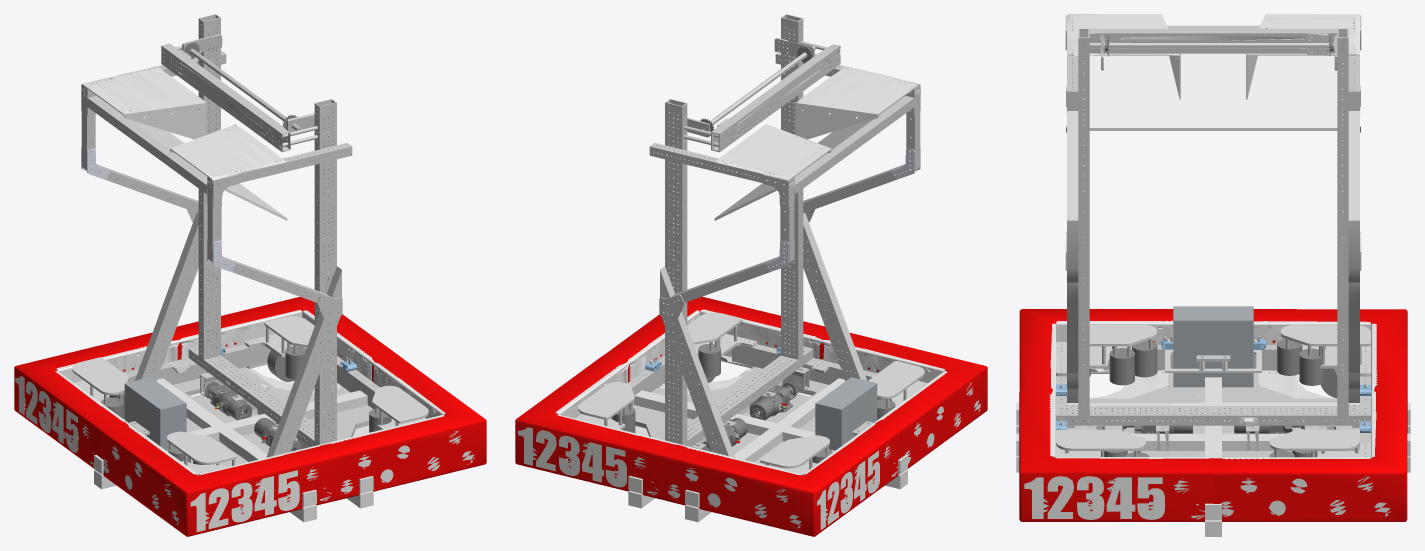
3 views of the same model, side by side, from view 1: azimuth 30°, elevation 25°; view 2: azimuth 150°, elevation 25°; view 3: azimuth 270°, elevation 25° (orthographic). The views are drawn at different scales.
Visible parts, largest first — view 1: geometry_2, geometry_5, geometry_4, geometry_11, geometry_9, geometry_6, geometry_10, geometry_13, geometry_22, geometry_3, geometry_18; view 2: geometry_2, geometry_5, geometry_4, geometry_11, geometry_9, geometry_6, geometry_10, geometry_13, geometry_22, geometry_3, geometry_18; view 3: geometry_2, geometry_5, geometry_4, geometry_11, geometry_10, geometry_13, geometry_6, geometry_9, geometry_22, geometry_8, geometry_12, geometry_20.
Part boxes in pixels (bbox=[...]): geometry_2: bbox=[81, 14, 379, 467]; geometry_5: bbox=[14, 297, 486, 536]; geometry_4: bbox=[24, 66, 474, 525]; geometry_11: bbox=[72, 316, 428, 474]; geometry_9: bbox=[55, 310, 445, 475]; geometry_6: bbox=[15, 376, 299, 531]; geometry_10: bbox=[124, 377, 186, 450]; geometry_13: bbox=[101, 346, 391, 464]; geometry_22: bbox=[207, 384, 296, 449]; geometry_3: bbox=[81, 147, 235, 271]; geometry_18: bbox=[182, 34, 314, 132]; geometry_2: bbox=[627, 14, 920, 467]; geometry_5: bbox=[515, 296, 987, 536]; geometry_4: bbox=[533, 66, 981, 528]; geometry_11: bbox=[575, 312, 927, 474]; geometry_9: bbox=[555, 309, 947, 475]; geometry_6: bbox=[518, 427, 879, 529]; geometry_10: bbox=[815, 377, 877, 450]; geometry_13: bbox=[611, 344, 895, 464]; geometry_22: bbox=[705, 385, 794, 446]; geometry_3: bbox=[766, 147, 920, 271]; geometry_18: bbox=[678, 38, 814, 137]; geometry_2: bbox=[1056, 15, 1370, 457]; geometry_5: bbox=[1019, 309, 1407, 521]; geometry_4: bbox=[1016, 14, 1410, 536]; geometry_11: bbox=[1056, 325, 1370, 457]; geometry_10: bbox=[1173, 306, 1253, 387]; geometry_13: bbox=[1104, 339, 1337, 457]; geometry_6: bbox=[1024, 476, 1164, 519]; geometry_9: bbox=[1049, 320, 1377, 459]; geometry_22: bbox=[1134, 425, 1292, 433]; geometry_8: bbox=[1056, 339, 1370, 432]; geometry_12: bbox=[1065, 338, 1361, 457]; geometry_20: bbox=[1056, 33, 1370, 427].
Size of the model in its own units: 0.889 by 1.07 by 0.889.
